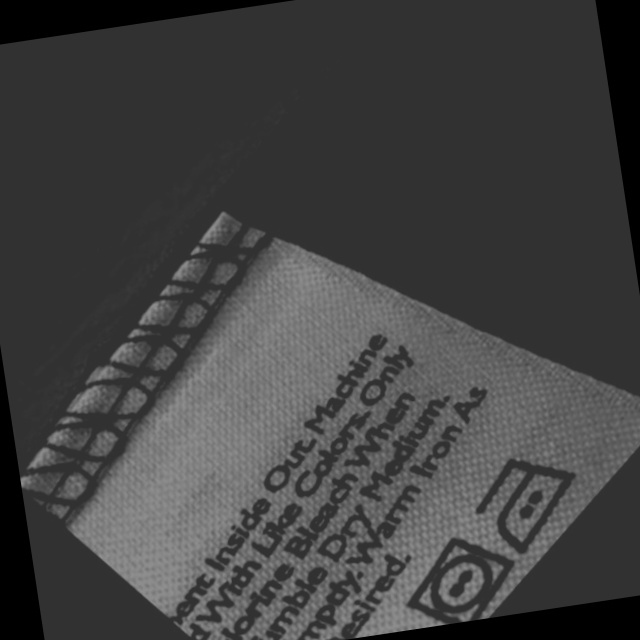iron_medium: (467, 445, 594, 561)
tumble_dry_medium: (399, 527, 527, 630)
